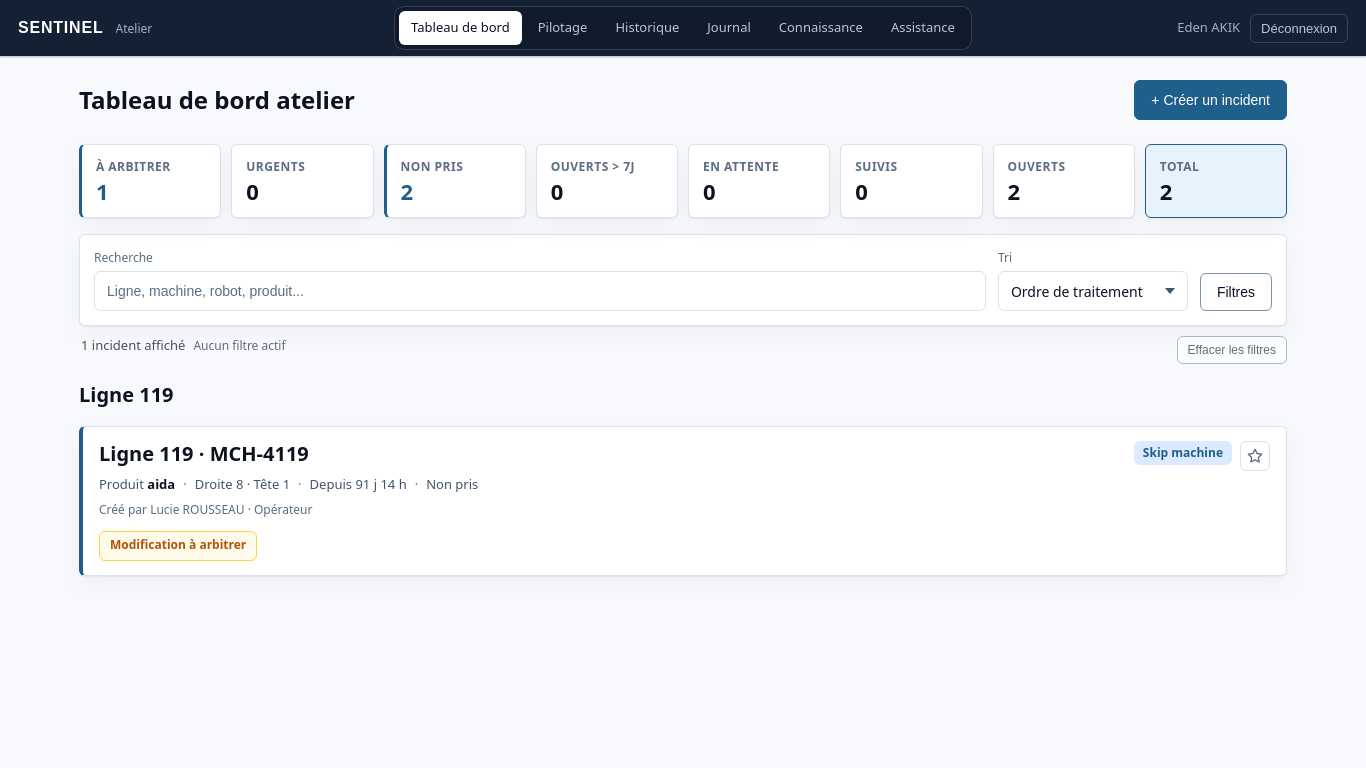
WorkshopDashboardPage › ouvre l'arbitrage depuis la carte sans ouvrir le dossier incident
Click the button "Modification à arbitrer" at coordinates (178, 546), box top-left (99, 530), bottom-right (257, 560)
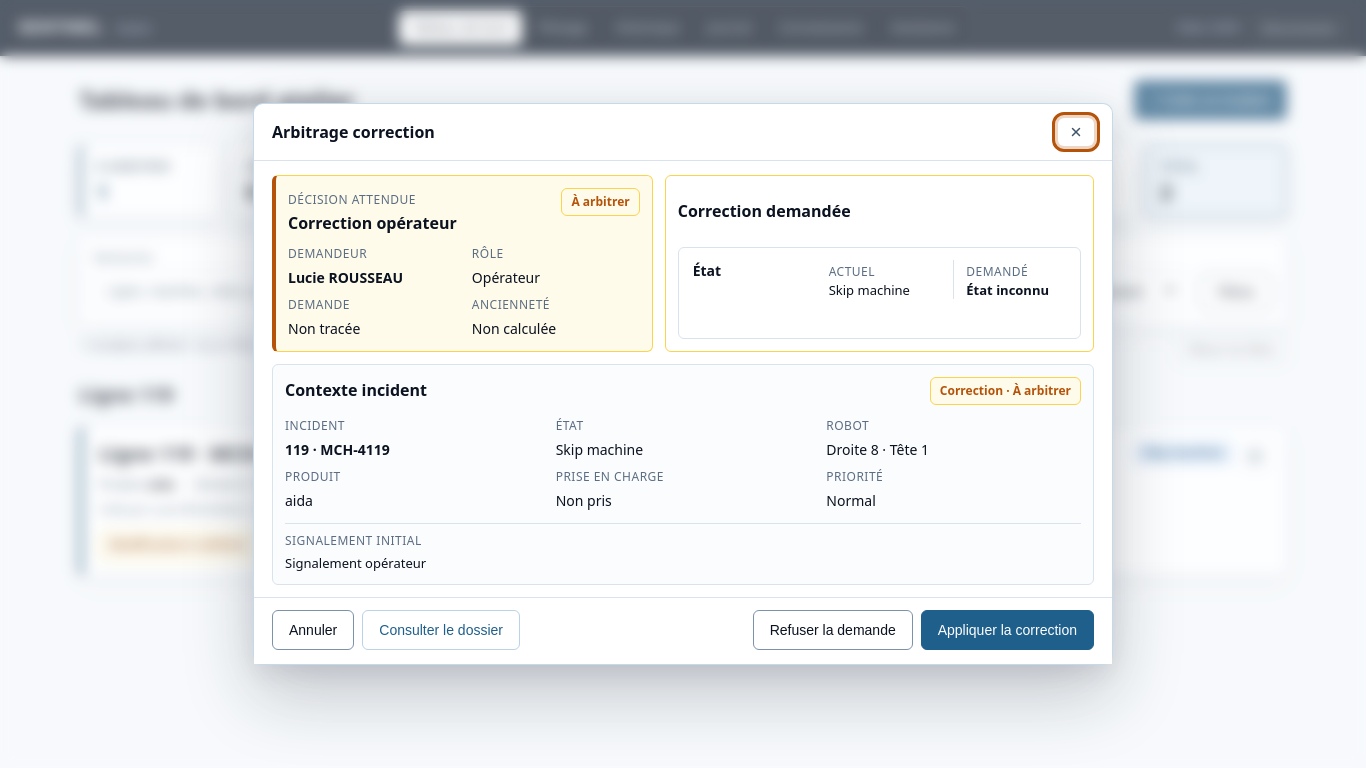
Now the dialog "Arbitrage correction" is shown, box top-left (253, 103), bottom-right (1113, 665)
